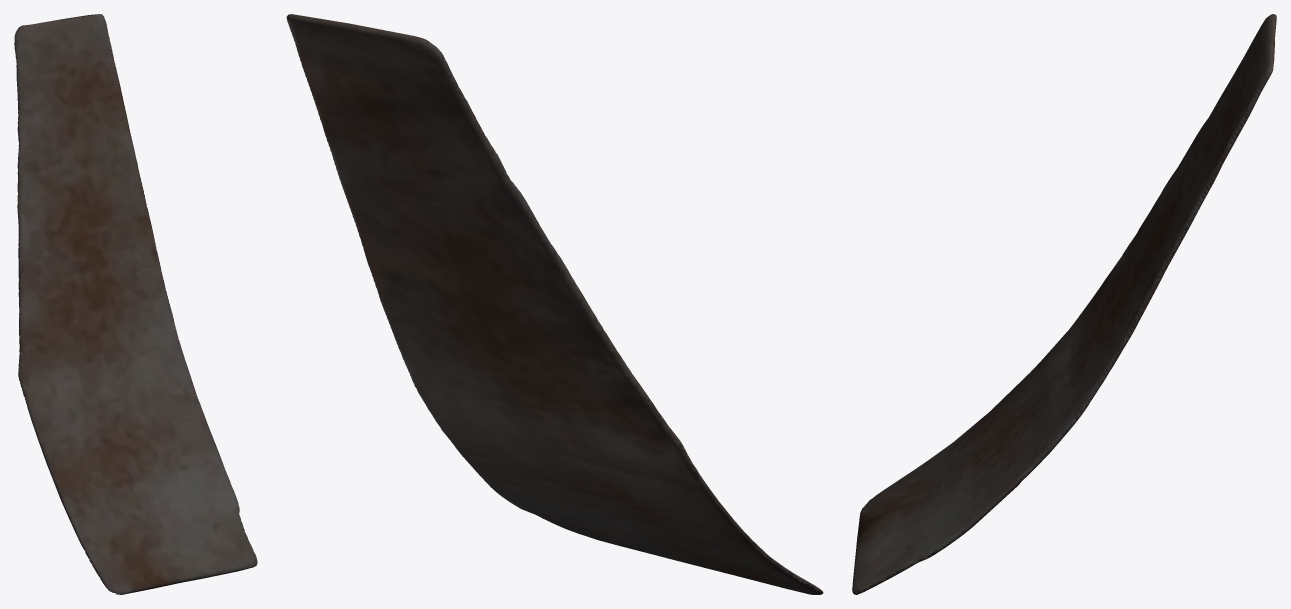
Rendered from chipped-iron-balcony-v001.glb.
3 renders of one model, left to right at view 1: azimuth 30°, elevation 25°; view 2: azimuth 150°, elevation 25°; view 3: azimuth 270°, elevation 25°, orthographic. The views are drawn at different scales.
Visible parts, largest first — view 1: chipped-iron-balcony; view 2: chipped-iron-balcony; view 3: chipped-iron-balcony.
Part boxes in pixels (bbox=[...]): chipped-iron-balcony: bbox=[14, 14, 257, 594]; chipped-iron-balcony: bbox=[286, 14, 823, 594]; chipped-iron-balcony: bbox=[852, 14, 1276, 594].
Size of the model in its own units: 0.4991 by 1.29 by 0.9166.
Materials: 1 (1 with a texture image).
